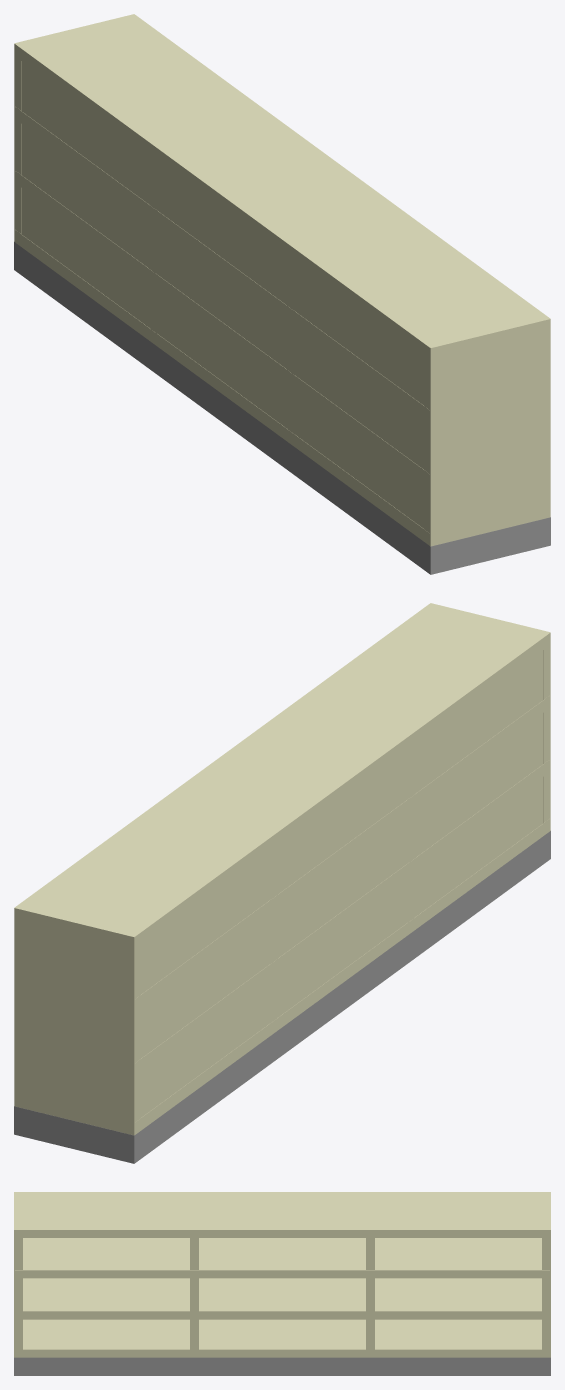
File: shelf3Mmini.fbx
The picture shows the model from 3 angles, top to bottom: view 1: azimuth 30°, elevation 25°; view 2: azimuth 150°, elevation 25°; view 3: azimuth 270°, elevation 25°; orthographic projection. The views are drawn at different scales.
Parts seen in each view (by area): view 1: back, top, wallLeft, foundation1, floor3, floor2, floor1, wallRight, wallCenRight, wallCenLeft; view 2: back, top, wallRight, foundation1, floor3, floor2, floor1, wallCenRight, wallLeft, wallCenLeft; view 3: top, floor2, floor3, floor1, foundation1, wallRight, wallCenRight, wallLeft, wallCenLeft.
Boxes of the visible parts, x1,y1,x2,y2 form: back: (21,61,423,528); top: (14,18,549,359); wallLeft: (423,318,550,546); foundation1: (14,242,550,574); floor3: (14,106,429,422); floor2: (14,170,429,486); floor1: (14,230,429,545); wallRight: (14,14,140,241); wallCenRight: (150,114,276,333); wallCenLeft: (287,256,294,433); back: (141,650,543,1117); top: (16,603,550,948); wallRight: (14,903,141,1135); foundation1: (14,831,550,1163); floor3: (135,695,550,1011); floor2: (135,759,550,1075); floor1: (135,819,550,1134); wallCenRight: (151,803,277,1022); wallLeft: (430,603,550,830); wallCenLeft: (407,745,414,922); top: (15,1192,549,1237); floor2: (15,1278,549,1319); floor3: (15,1238,549,1278); floor1: (15,1319,549,1357); foundation1: (14,1357,550,1375); wallRight: (542,1192,550,1357); wallCenRight: (366,1192,374,1349); wallLeft: (14,1192,22,1357); wallCenLeft: (190,1238,198,1349).
Size of the model in its own units: 100 by 180 by 600.
